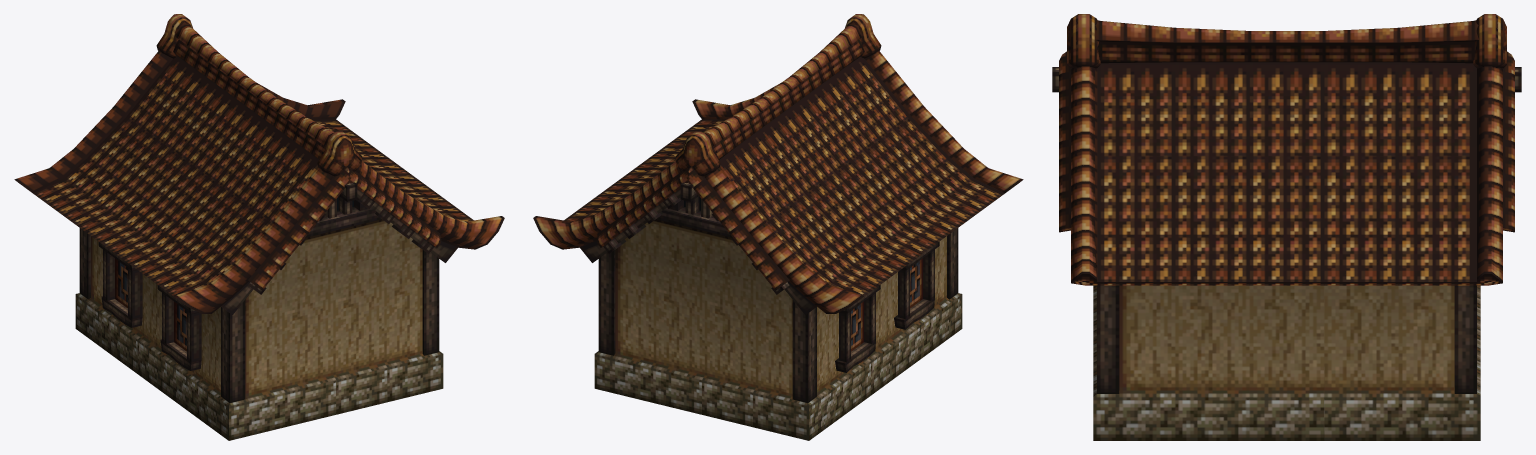
File: EnvBdgMD_Desert_A_Outdoor_House_D.FBX
3 renders of one model, left to right at view 1: azimuth 30°, elevation 25°; view 2: azimuth 150°, elevation 25°; view 3: azimuth 270°, elevation 25°, orthographic. The views are drawn at different scales.
Visible parts, largest first — view 1: EnvBdgMD_Desert_A_Outdoor_House_D; view 2: EnvBdgMD_Desert_A_Outdoor_House_D; view 3: EnvBdgMD_Desert_A_Outdoor_House_D.
Boxes of the visible parts, x1,y1,x2,y2 form: EnvBdgMD_Desert_A_Outdoor_House_D: (14,14,504,440); EnvBdgMD_Desert_A_Outdoor_House_D: (533,14,1023,440); EnvBdgMD_Desert_A_Outdoor_House_D: (1052,14,1521,440).
Size of the model in its own units: 644 by 532 by 630.
